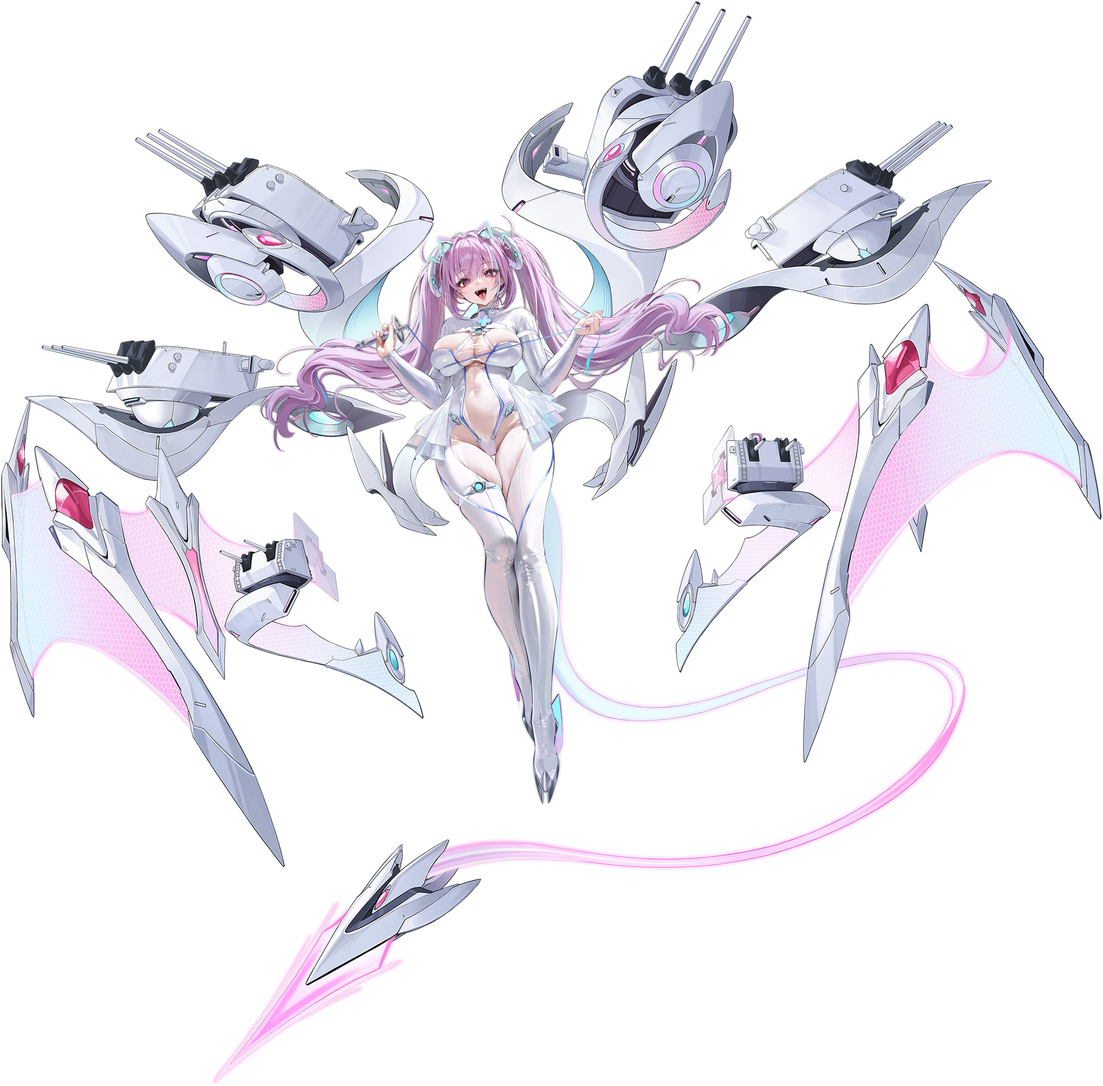person: (361, 211, 658, 832)
